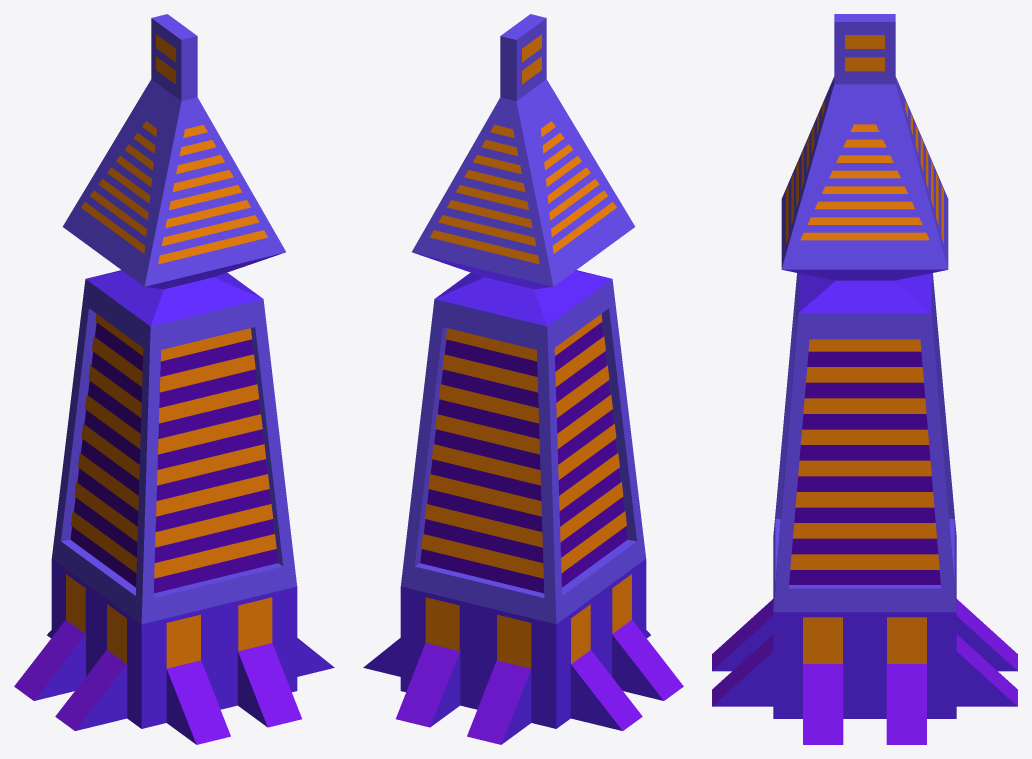
File: Building_016.fbx
3 views of the same model, side by side, from view 1: azimuth 30°, elevation 25°; view 2: azimuth 150°, elevation 25°; view 3: azimuth 270°, elevation 25° (orthographic).
Parts seen in each view (by area): view 1: Building_016; view 2: Building_016; view 3: Building_016.
Part boxes in pixels (x1=…): Building_016: x1=14, y1=14, x2=334, y2=744; Building_016: x1=363, y1=14, x2=683, y2=744; Building_016: x1=712, y1=14, x2=1017, y2=744.
Bounding box in the file's own units: 45.34 × 108 × 45.34.
